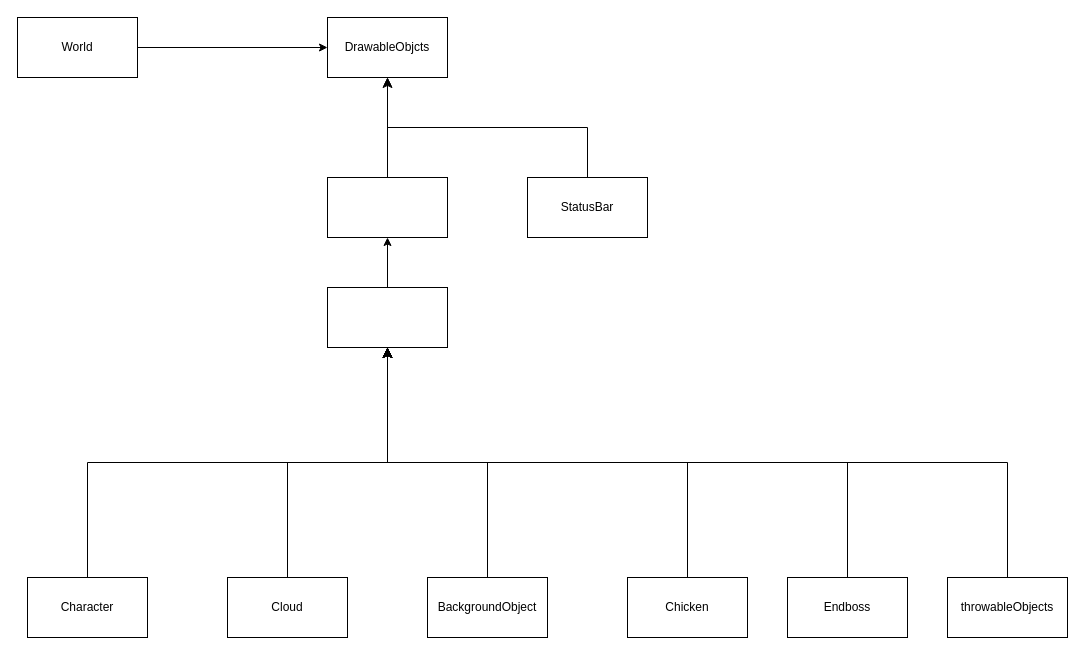
The diagram is 1085 pixels wide and 655 high, and some of its shapes have lost their labels. The shapes that lost their labels are listed below. From the top down, each one's centre as x and y in pixels, then its label:
the point at 387,207: CollidingObject
the point at 387,317: MovableObject
